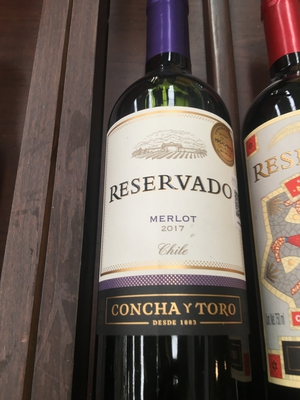reservado merlot: (93, 4, 245, 395)
